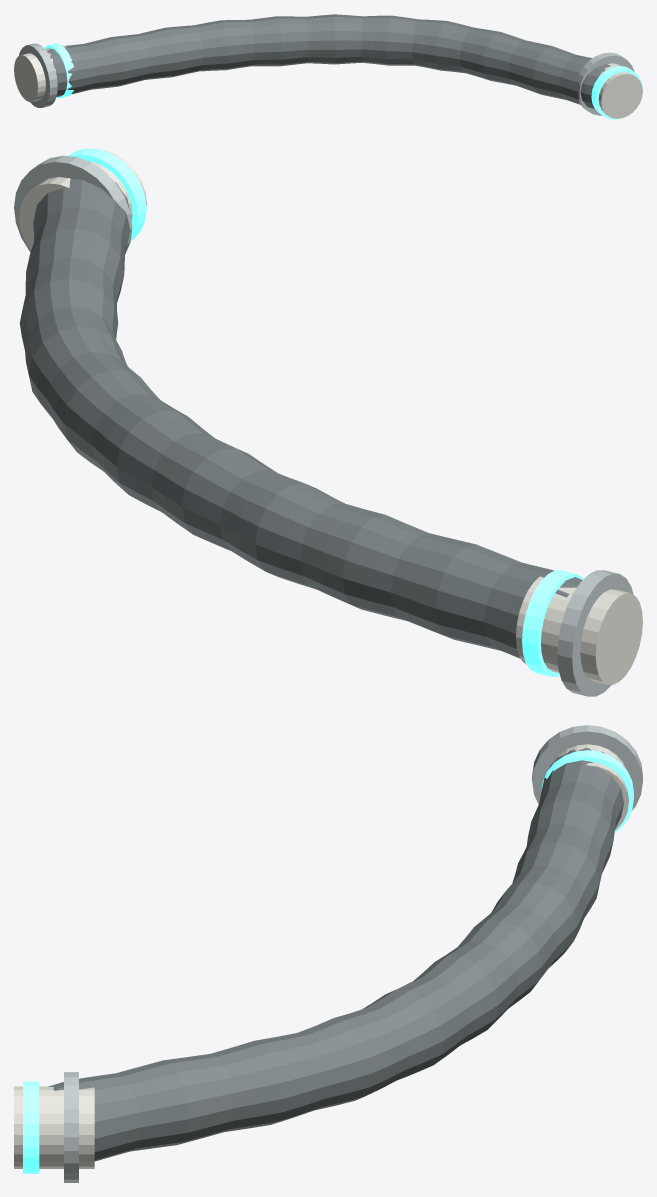
File: s7-i03-hose-bend-60.glb
3 renders of one model, top to bottom at view 1: azimuth 30°, elevation 25°; view 2: azimuth 150°, elevation 25°; view 3: azimuth 270°, elevation 25°, orthographic. The views are drawn at different scales.
Visible parts, largest first — view 1: 000_actual_curved_hose_swept_3d, 004_end_1_sealing_socket, 001_end_0_sealing_socket, 003_end_0_locking_collar, 006_end_1_locking_collar, 005_end_1_cyan_snap_seal, 002_end_0_cyan_snap_seal; view 2: 000_actual_curved_hose_swept_3d, 001_end_0_sealing_socket, 003_end_0_locking_collar, 006_end_1_locking_collar, 002_end_0_cyan_snap_seal, 005_end_1_cyan_snap_seal, 004_end_1_sealing_socket; view 3: 000_actual_curved_hose_swept_3d, 004_end_1_sealing_socket, 003_end_0_locking_collar, 006_end_1_locking_collar, 005_end_1_cyan_snap_seal, 002_end_0_cyan_snap_seal, 001_end_0_sealing_socket.
Part boxes in pixels (x1=…): 000_actual_curved_hose_swept_3d: x1=46, y1=14, x2=610, y2=109; 004_end_1_sealing_socket: x1=598, y1=63, x2=642, y2=118; 001_end_0_sealing_socket: x1=14, y1=45, x2=66, y2=101; 003_end_0_locking_collar: x1=19, y1=43, x2=57, y2=107; 006_end_1_locking_collar: x1=578, y1=52, x2=634, y2=115; 005_end_1_cyan_snap_seal: x1=591, y1=66, x2=642, y2=119; 002_end_0_cyan_snap_seal: x1=44, y1=43, x2=73, y2=97; 000_actual_curved_hose_swept_3d: x1=19, y1=179, x2=582, y2=660; 001_end_0_sealing_socket: x1=516, y1=576, x2=642, y2=684; 003_end_0_locking_collar: x1=557, y1=570, x2=633, y2=696; 006_end_1_locking_collar: x1=14, y1=155, x2=132, y2=254; 002_end_0_cyan_snap_seal: x1=522, y1=570, x2=583, y2=676; 005_end_1_cyan_snap_seal: x1=68, y1=148, x2=146, y2=240; 004_end_1_sealing_socket: x1=19, y1=150, x2=146, y2=250; 000_actual_curved_hose_swept_3d: x1=47, y1=748, x2=624, y2=1161; 004_end_1_sealing_socket: x1=14, y1=1086, x2=94, y2=1168; 003_end_0_locking_collar: x1=532, y1=725, x2=642, y2=810; 006_end_1_locking_collar: x1=64, y1=1072, x2=78, y2=1182; 005_end_1_cyan_snap_seal: x1=23, y1=1081, x2=39, y2=1173; 002_end_0_cyan_snap_seal: x1=541, y1=750, x2=633, y2=831; 001_end_0_sealing_socket: x1=549, y1=744, x2=628, y2=829.
Bounding box in the file's own units: 0.7632 × 0.0935 × 0.5306.
